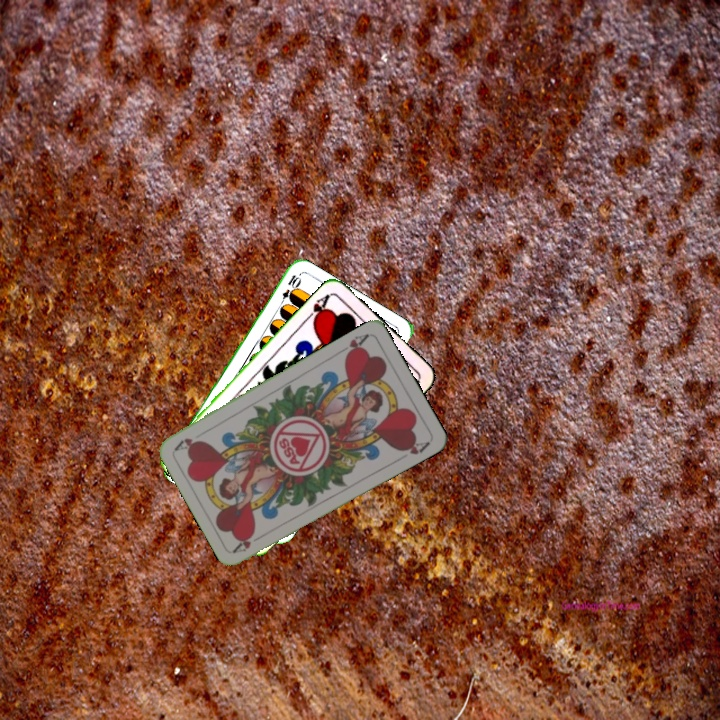E10: (275, 270, 303, 309)
HA: (302, 290, 333, 326), (334, 330, 371, 360), (230, 529, 268, 555)
